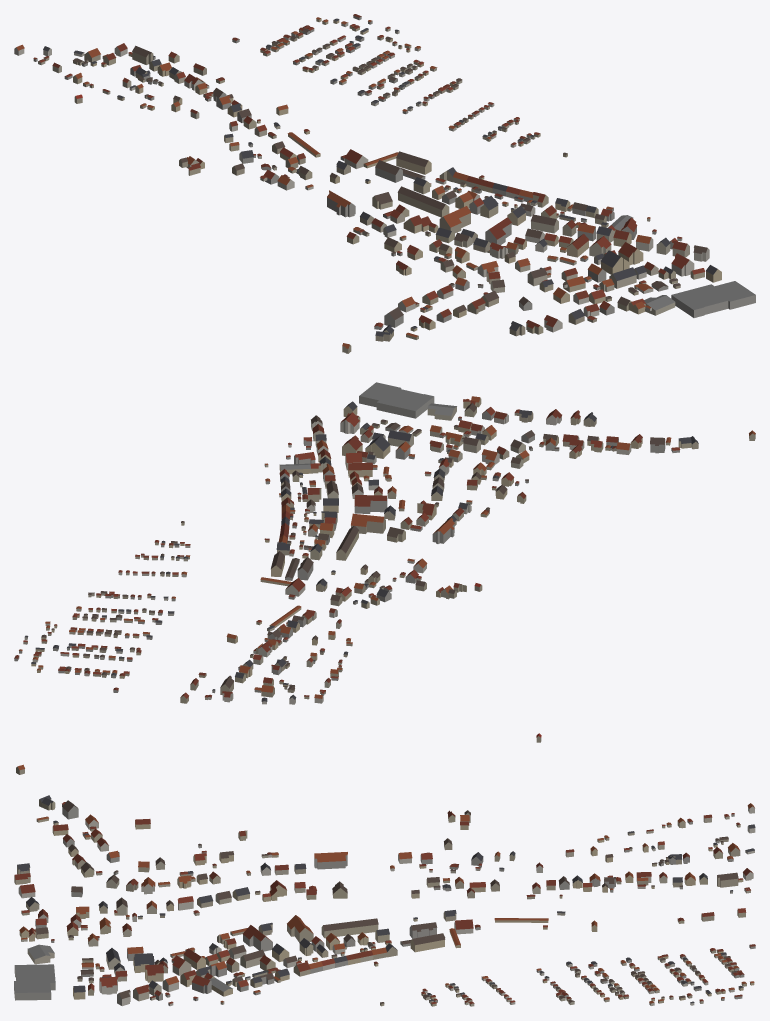
3 views of the same model, one above another, from view 1: azimuth 30°, elevation 25°; view 2: azimuth 150°, elevation 25°; view 3: azimuth 270°, elevation 25° (orthographic). The views are drawn at different scales.
Parts seen in each view (by area): view 1: buildings; view 2: buildings; view 3: buildings.
Part boxes in pixels (x1=…): buildings: x1=14, y1=14, x2=755, y2=353; buildings: x1=14, y1=382, x2=755, y2=704; buildings: x1=14, y1=733, x2=755, y2=1006.
Bounding box in the file's own units: 491 × 109 × 809.
